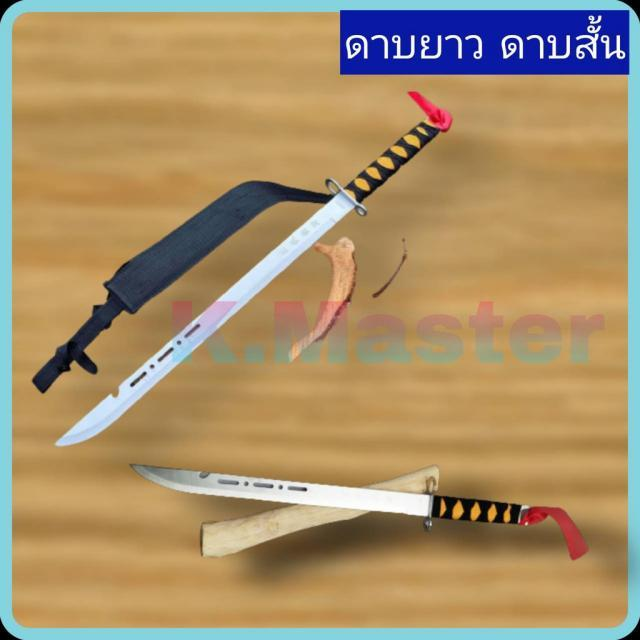long sword: (56, 114, 454, 449), (124, 458, 551, 520)
